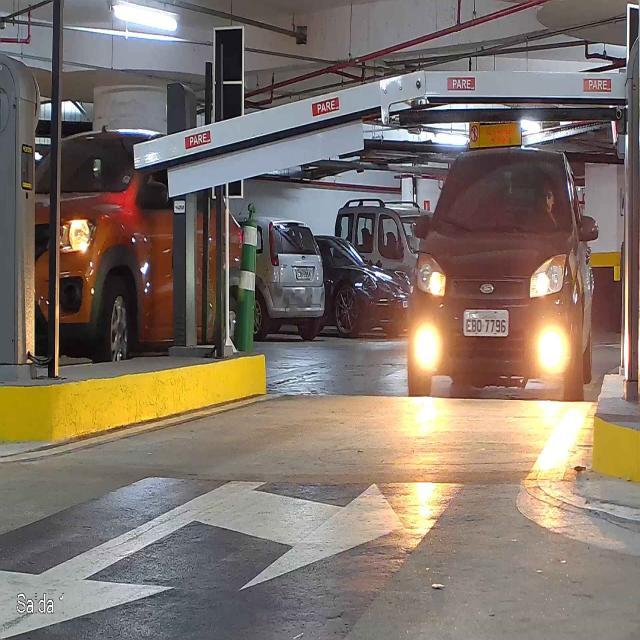old_plate: (462, 307, 510, 338)
